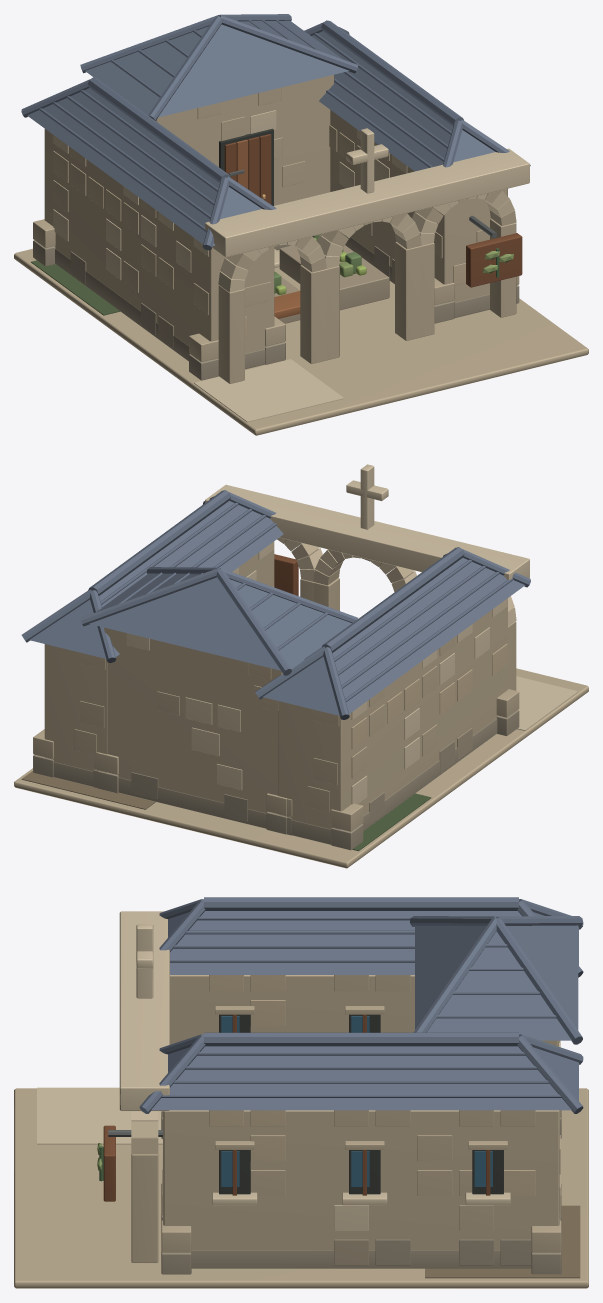
File: clinic.glb
The picture shows the model from 3 angles, top to bottom: view 1: azimuth 30°, elevation 25°; view 2: azimuth 150°, elevation 25°; view 3: azimuth 270°, elevation 25°; orthographic projection. The views are drawn at different scales.
Visible parts, largest first — view 1: clinic; view 2: clinic; view 3: clinic.
Boxes of the visible parts, x1,y1,x2,y2 form: clinic: [14, 14, 588, 435]; clinic: [14, 464, 588, 868]; clinic: [14, 897, 588, 1288].
Bounding box in the file's own units: 2.75 × 1.82 × 3.45.
